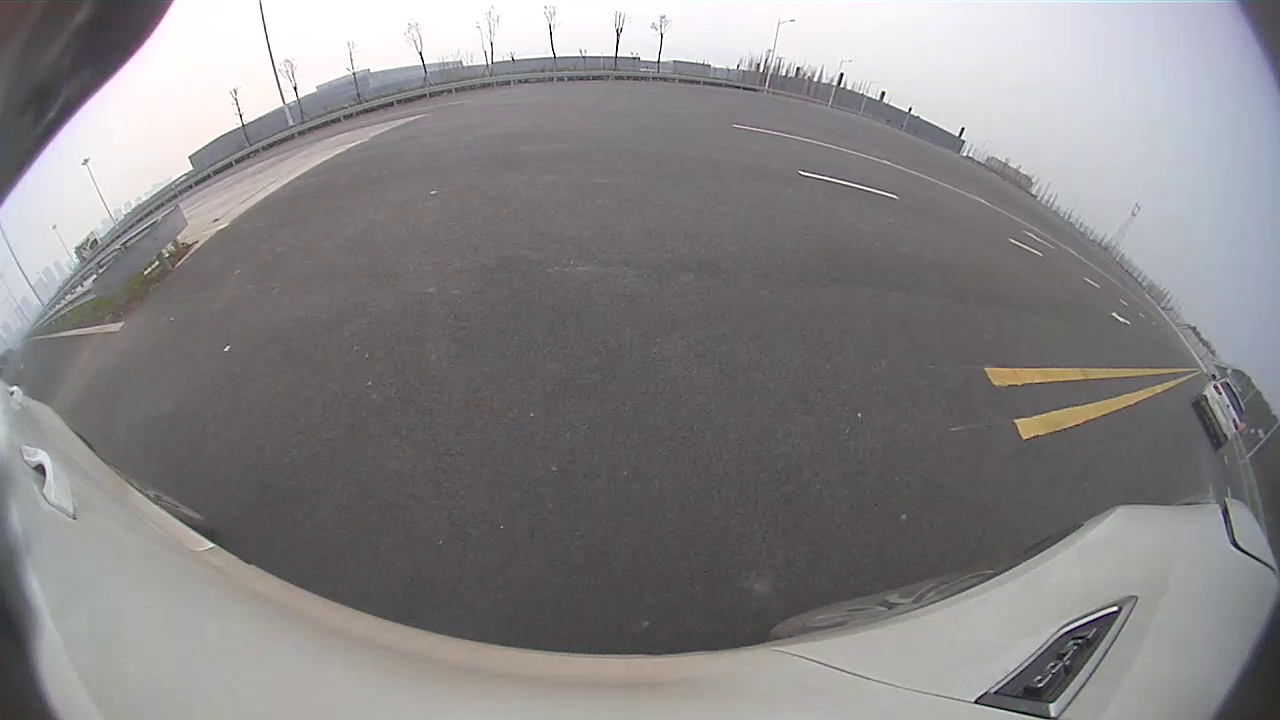car: (498, 130, 619, 224)
rear: (592, 179, 605, 216)
